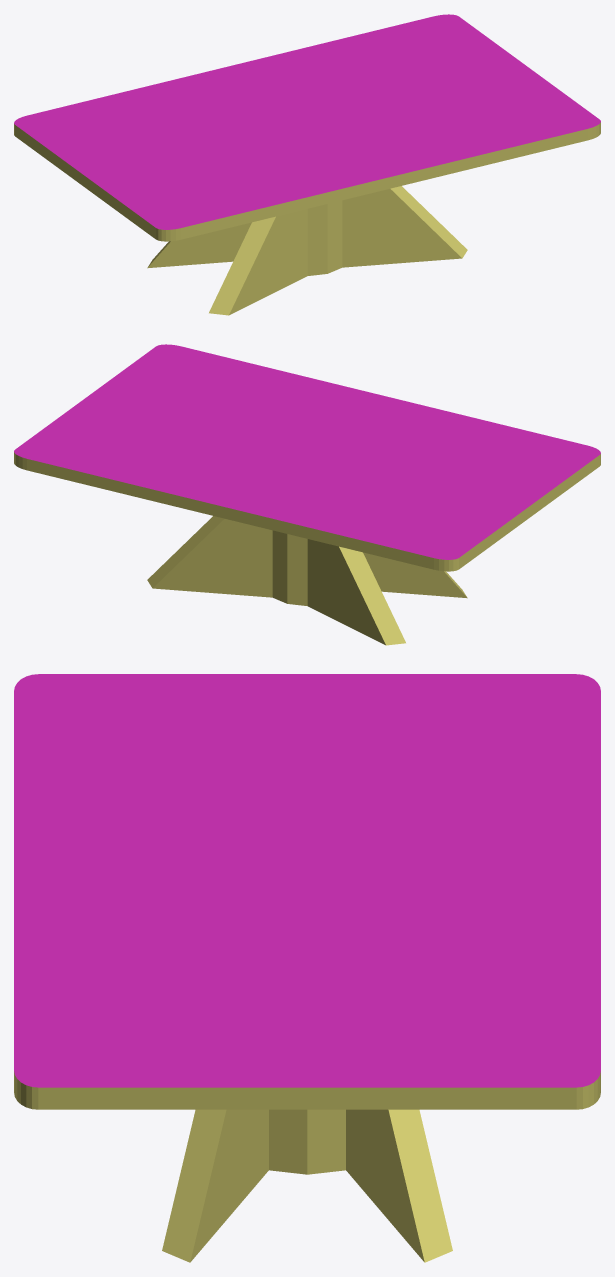
The model's file is table 1.fbx.
3 renders of one model, top to bottom at view 1: azimuth 30°, elevation 25°; view 2: azimuth 150°, elevation 25°; view 3: azimuth 270°, elevation 25°, orthographic. The views are drawn at different scales.
Visible parts, largest first — view 1: Cube; view 2: Cube; view 3: Cube.
Part boxes in pixels (x1=…): Cube: x1=14, y1=14, x2=600, y2=315; Cube: x1=14, y1=344, x2=600, y2=645; Cube: x1=14, y1=674, x2=600, y2=1262.
Size of the model in its own units: 200 by 58.94 by 120.
